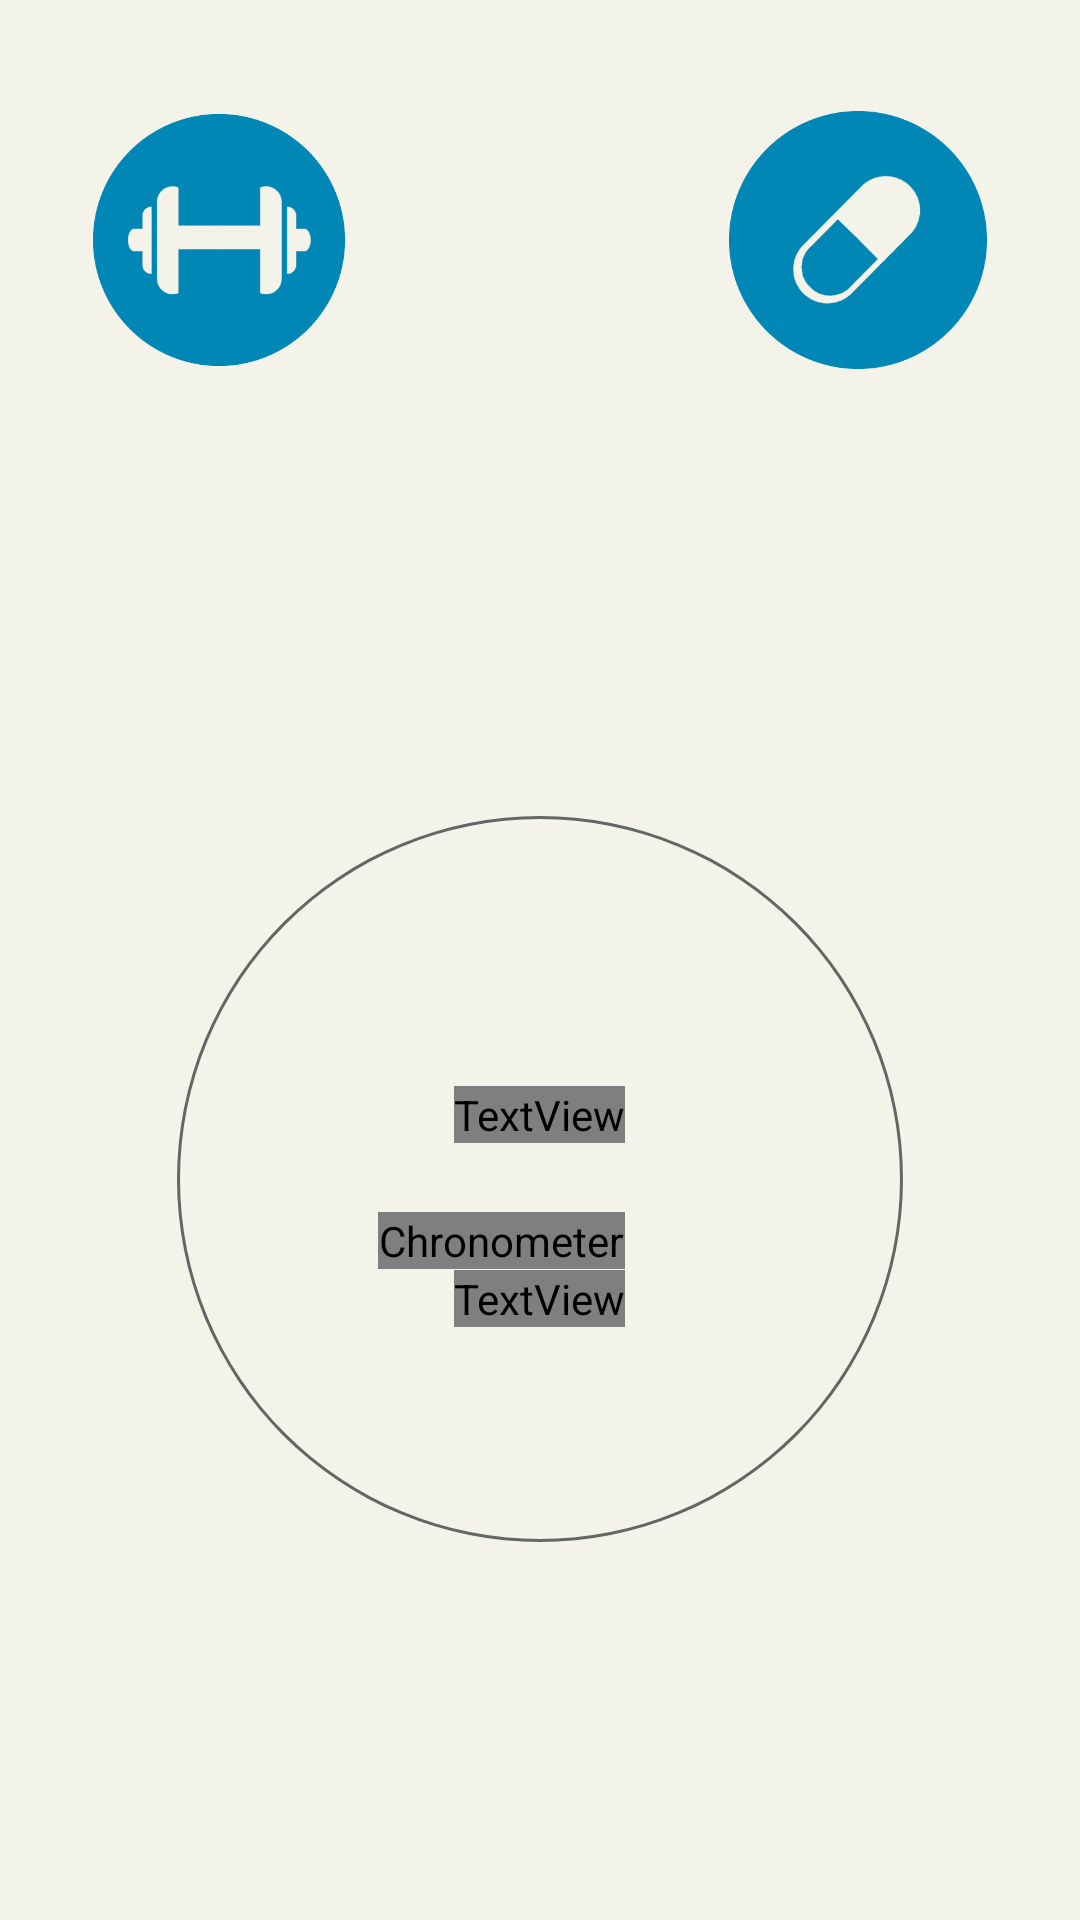

Named icons in this screenshot (1080px x 1920px) and their bounding boxes, (x1, y1, x2, y2):
exercise input unclicked: (93, 114, 345, 366)
insulin input unclicked: (729, 111, 987, 369)
